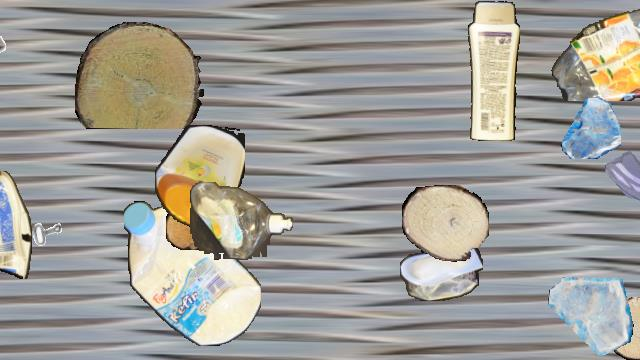glass: (547, 273, 633, 359), (560, 98, 620, 158), (605, 144, 640, 212)
metal: (13, 193, 71, 251), (0, 1, 18, 53)
plastic: (124, 200, 260, 346), (155, 125, 245, 227), (550, 1, 640, 101), (190, 182, 292, 260), (465, 1, 519, 141), (400, 240, 482, 300), (0, 171, 31, 279)
wood: (75, 22, 203, 128), (402, 185, 488, 261), (166, 204, 210, 250), (608, 297, 640, 359)
